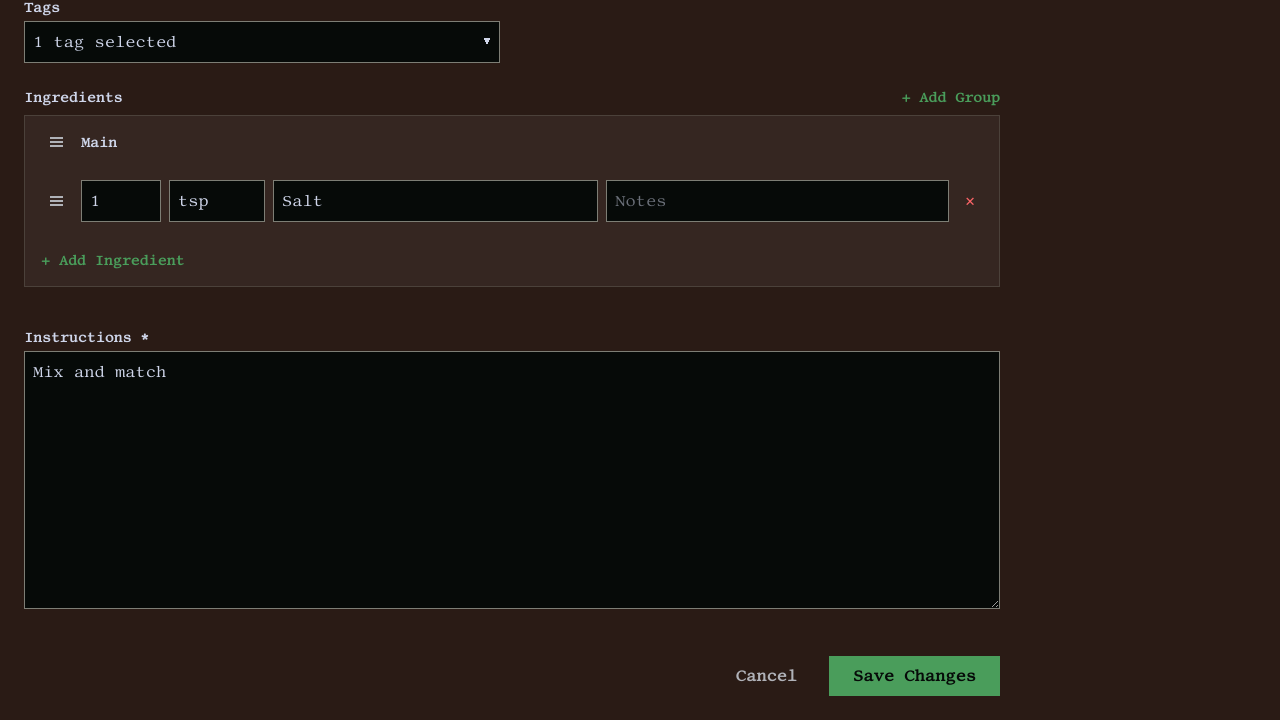
Scenario: EditRecipe › shows the server's explanation when the save is rejected
This screenshot has width=1280, height=720.
(page scrolled)
Click the button "Save Changes": (915,676) [829, 656, 1000, 696]
(page scrolled)
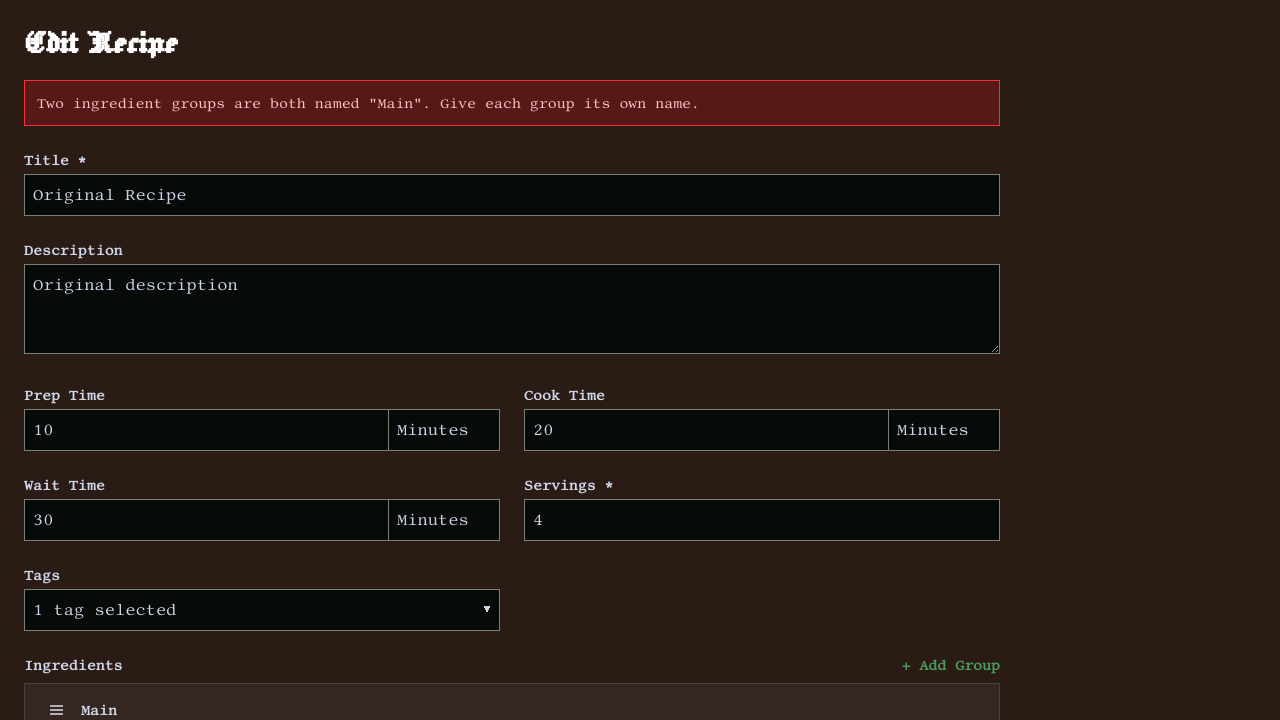
Check: the text "both named \"Main\"" is shown, box [37, 95, 700, 111]
